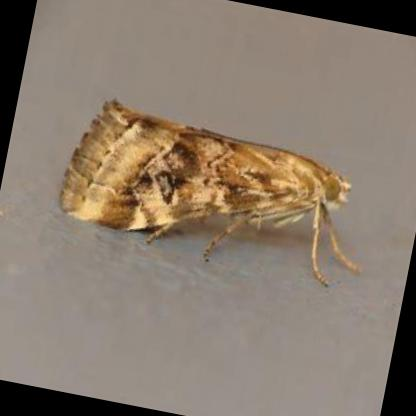Hellula undalis: (59, 94, 371, 286)
